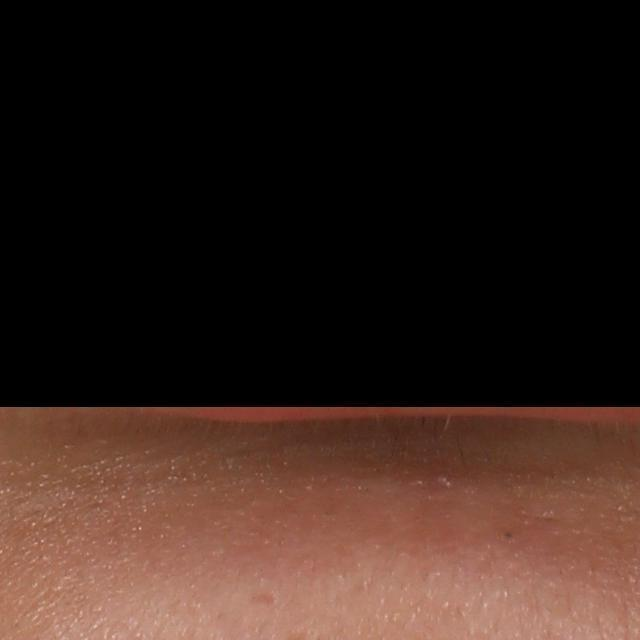atrophic_scar: (249, 588, 283, 611)
